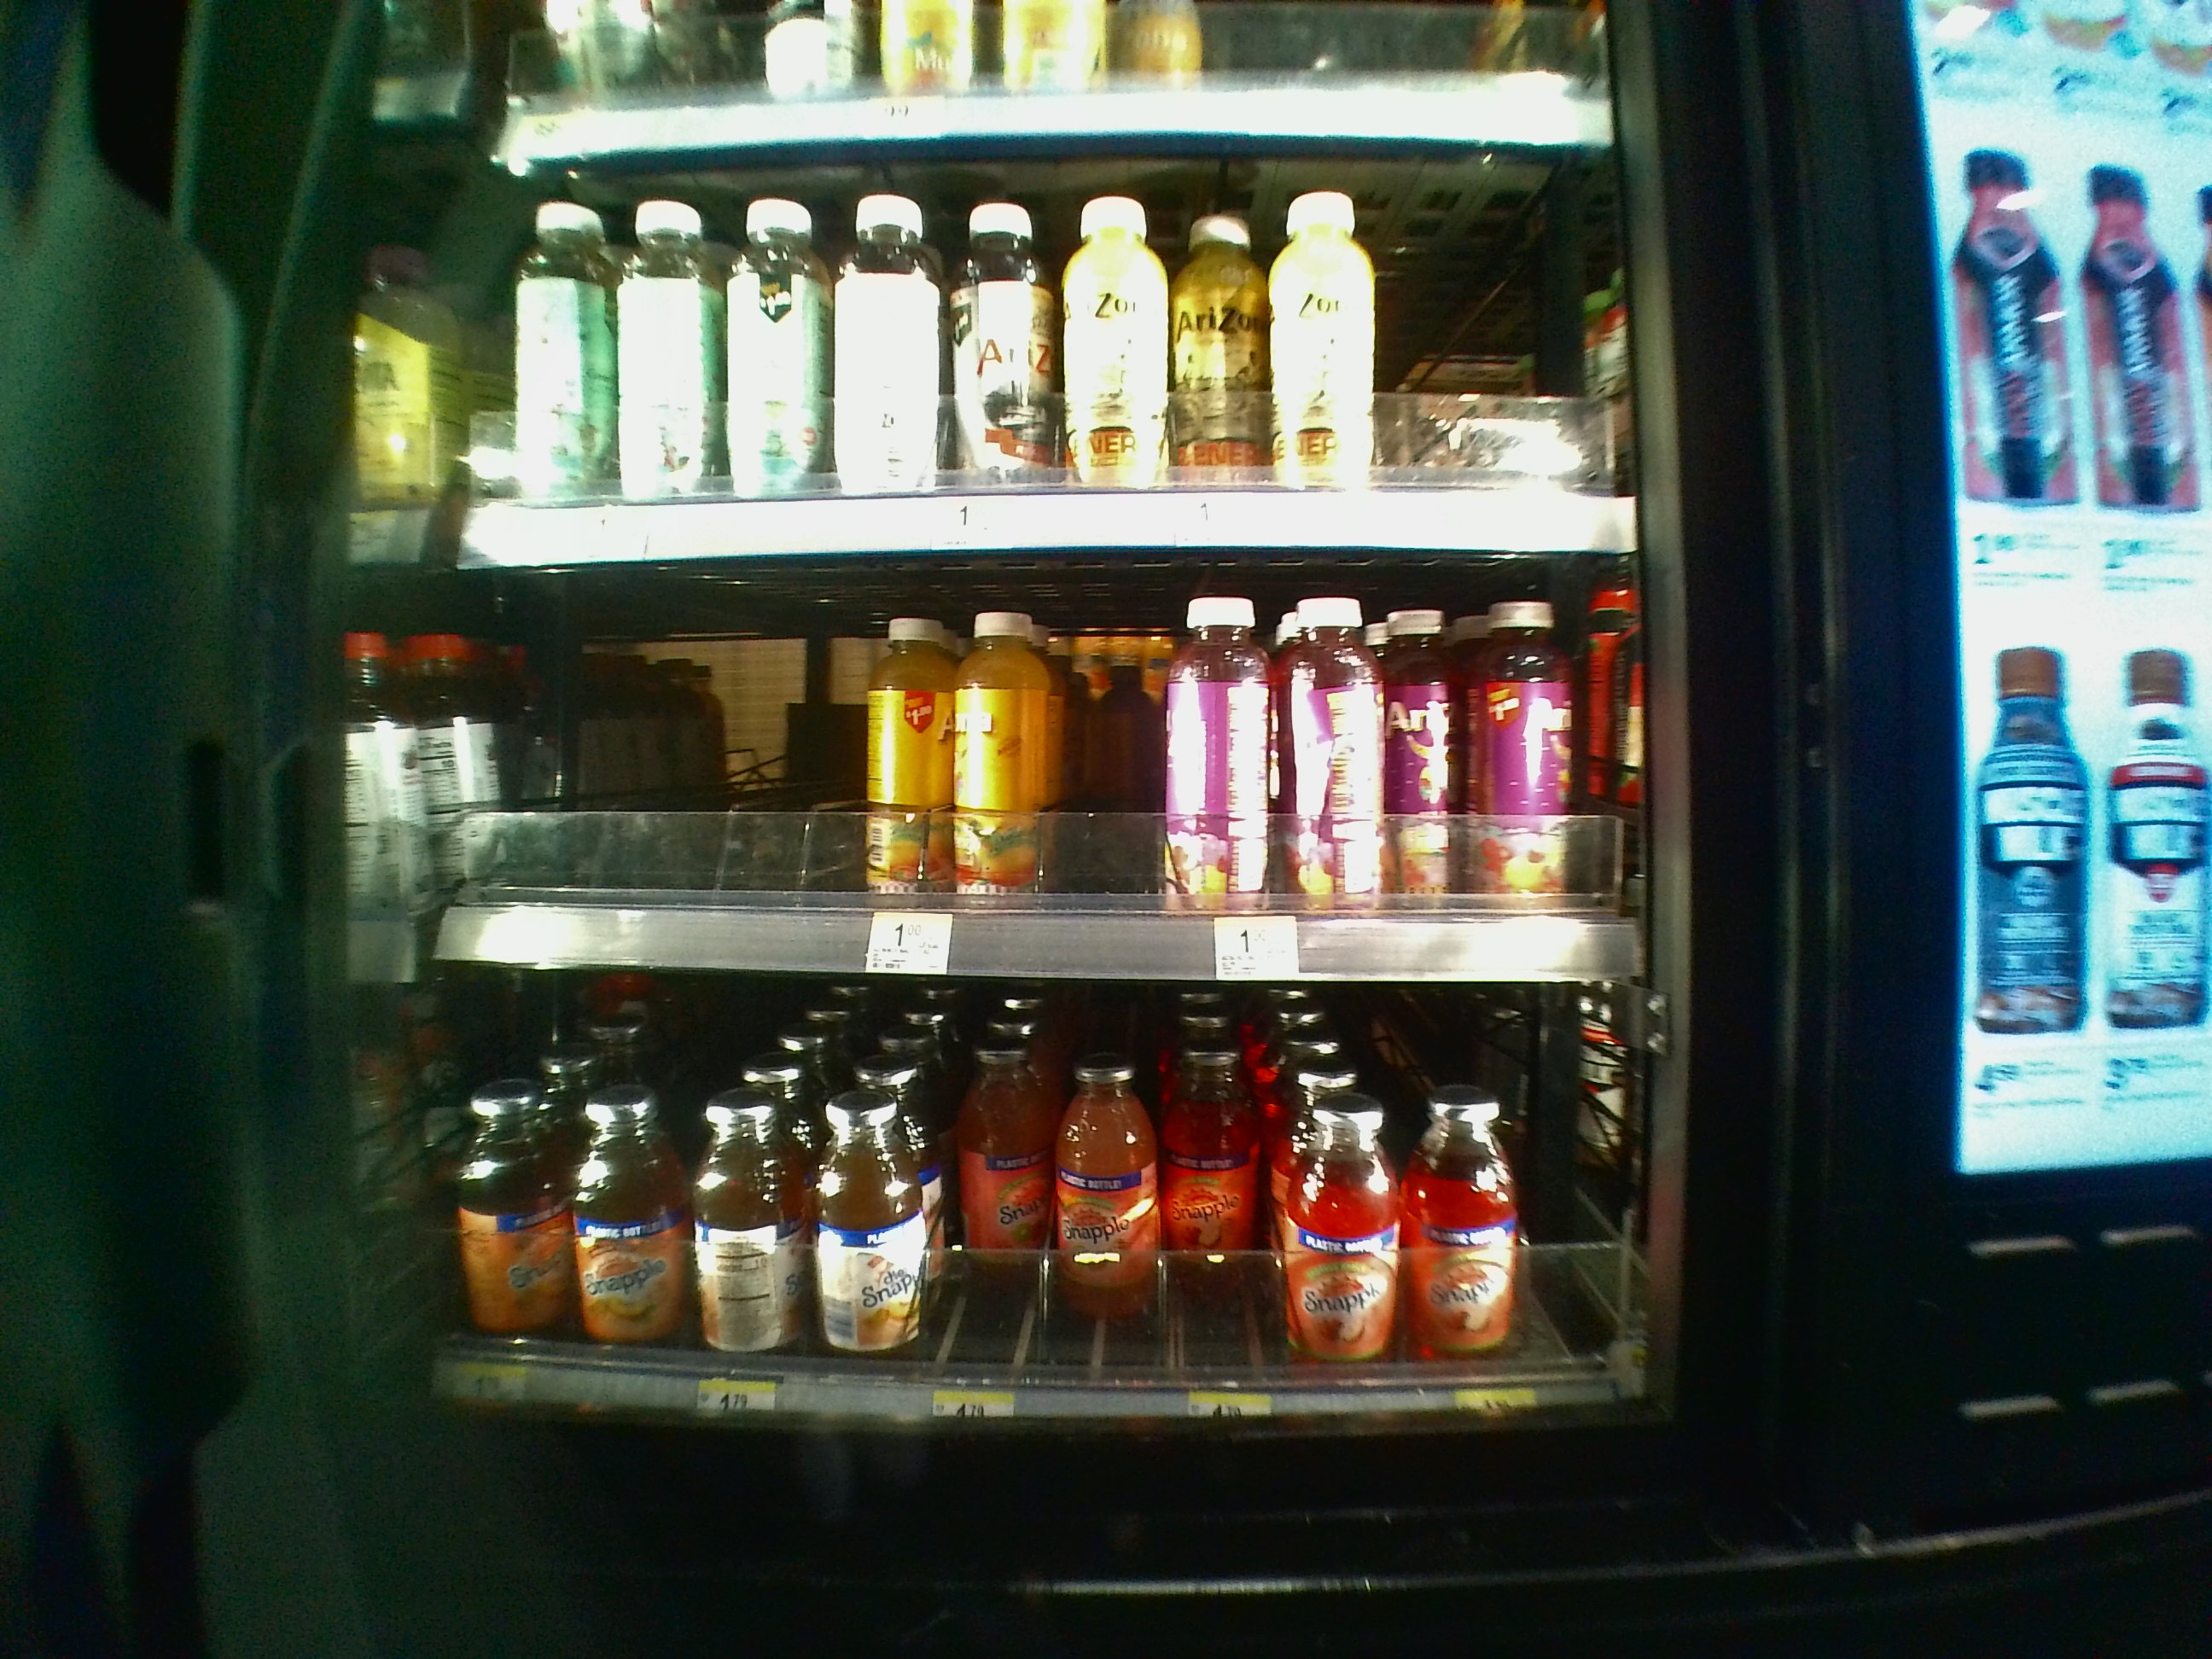shelf: (427, 988, 1662, 1453), (435, 566, 1646, 967), (441, 157, 1623, 561)
